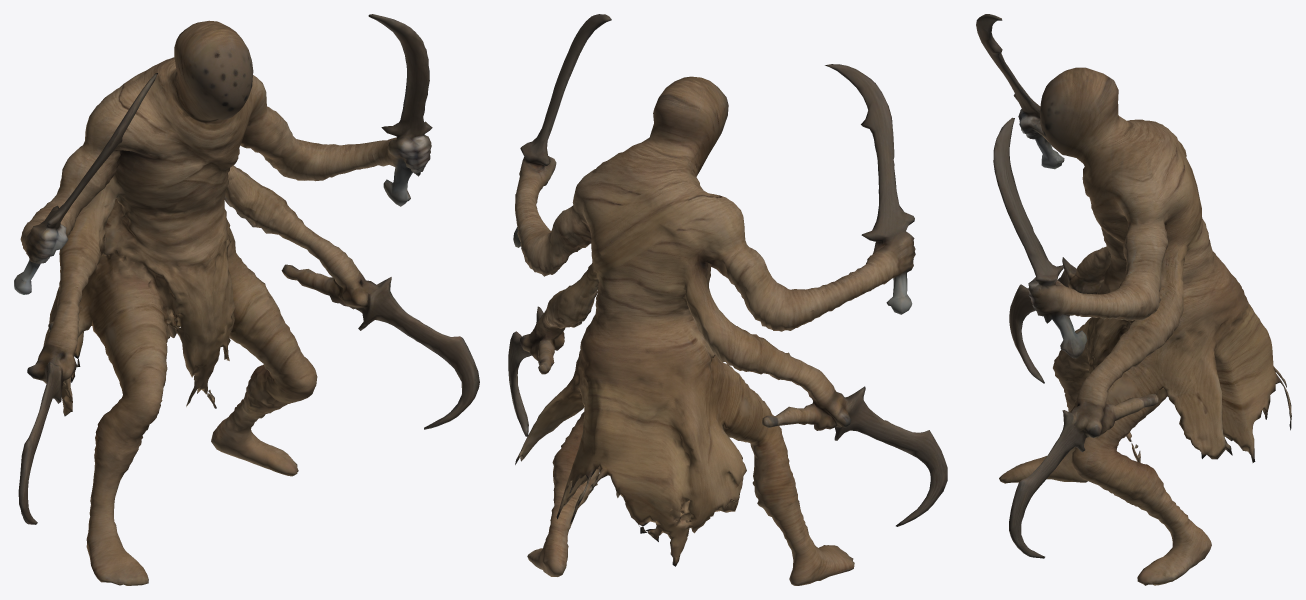
File: dune_stalker.glb
The picture shows the model from 3 angles, left to right: view 1: azimuth 30°, elevation 25°; view 2: azimuth 150°, elevation 25°; view 3: azimuth 270°, elevation 25°; orthographic projection. The views are drawn at different scales.
Size of the model in its own units: 1.89 by 2 by 1.22.
1 material, 1 textured.
